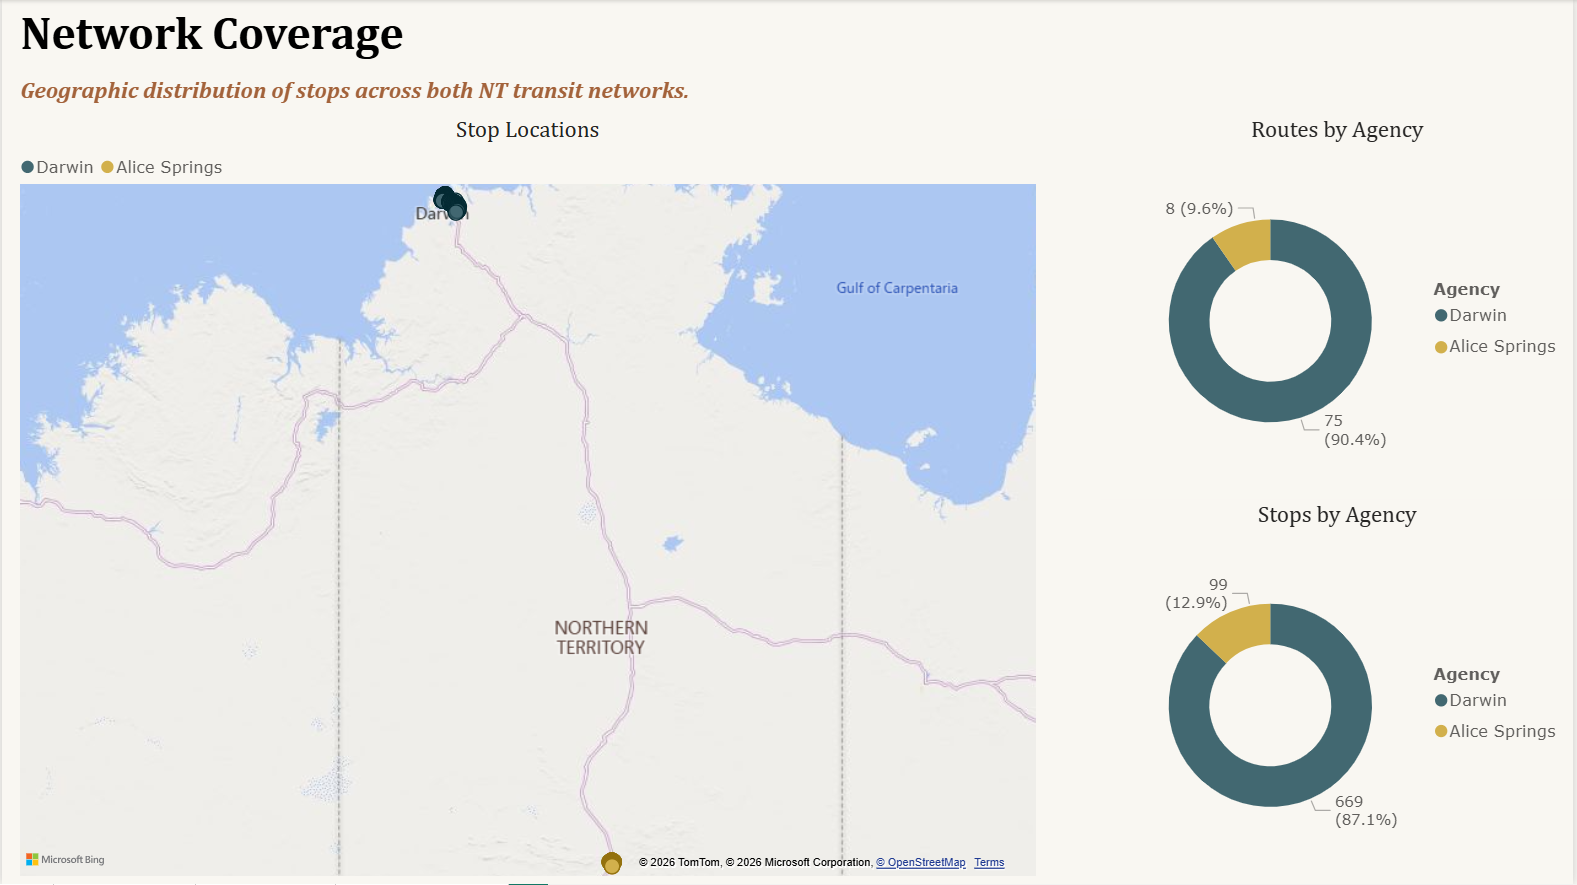

The page's visual inventory and layout, read from the dashboard file:
{"tool":"powerbi","page":{"name":"Network Coverage","canvas":[1280,720],"ordinal":1},"visuals":[{"type":"textbox","box":[9.9,0,1269.9,70],"z":0},{"type":"textbox","box":[9.5,56.8,1270.5,40],"z":1000},{"type":"map","title":"Stop Locations","fields":{"Y":["wh_cdc_nt dim_stops.stop_lat"],"X":["wh_cdc_nt dim_stops.stop_lon"],"Series":["wh_cdc_nt dim_agency.agency_display_name"]},"box":[9.5,93.8,836.7,625.8],"z":2000},{"type":"donutChart","title":"Routes by Agency","fields":{"Category":["wh_cdc_nt dim_agency.agency_display_name"],"Y":["CountNonNull(wh_cdc_nt dim_routes.route_id)"]},"box":[895.2,93.8,384.8,313.3],"z":3000},{"type":"donutChart","title":"Stops by Agency","fields":{"Category":["wh_cdc_nt dim_agency.agency_display_name"],"Y":["CountNonNull(wh_cdc_nt dim_stops.stop_id)"]},"box":[895.2,407.2,384.8,312.5],"z":4000}]}

Visuals, with their boxes in screenshot pixels (x1, y1, x2, y2), scaled from the page's 1280x720 canvas onto the 1577x885 screenshot:
textbox: bbox(12, 0, 1576, 86)
textbox: bbox(12, 70, 1576, 119)
"Stop Locations" map: bbox(12, 115, 1043, 884)
"Routes by Agency" donutChart: bbox(1103, 115, 1576, 500)
"Stops by Agency" donutChart: bbox(1103, 501, 1576, 884)
